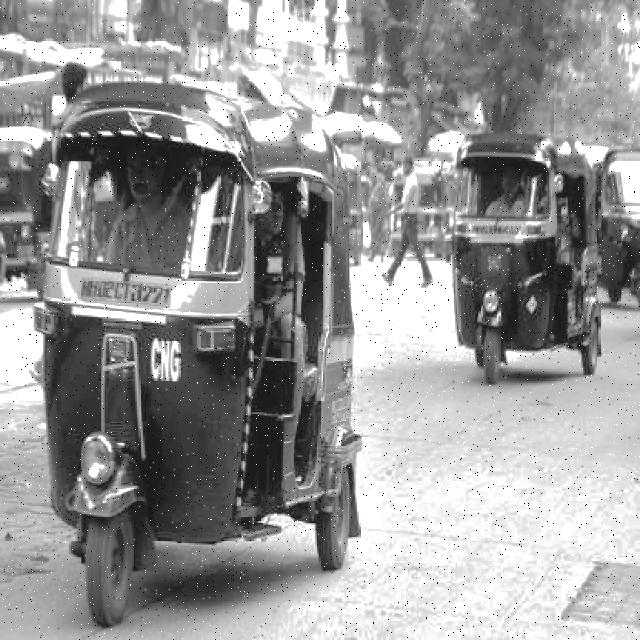Auto-Rickshaw: (40, 82, 367, 620), (454, 131, 603, 394), (591, 146, 638, 302), (1, 129, 44, 297)
